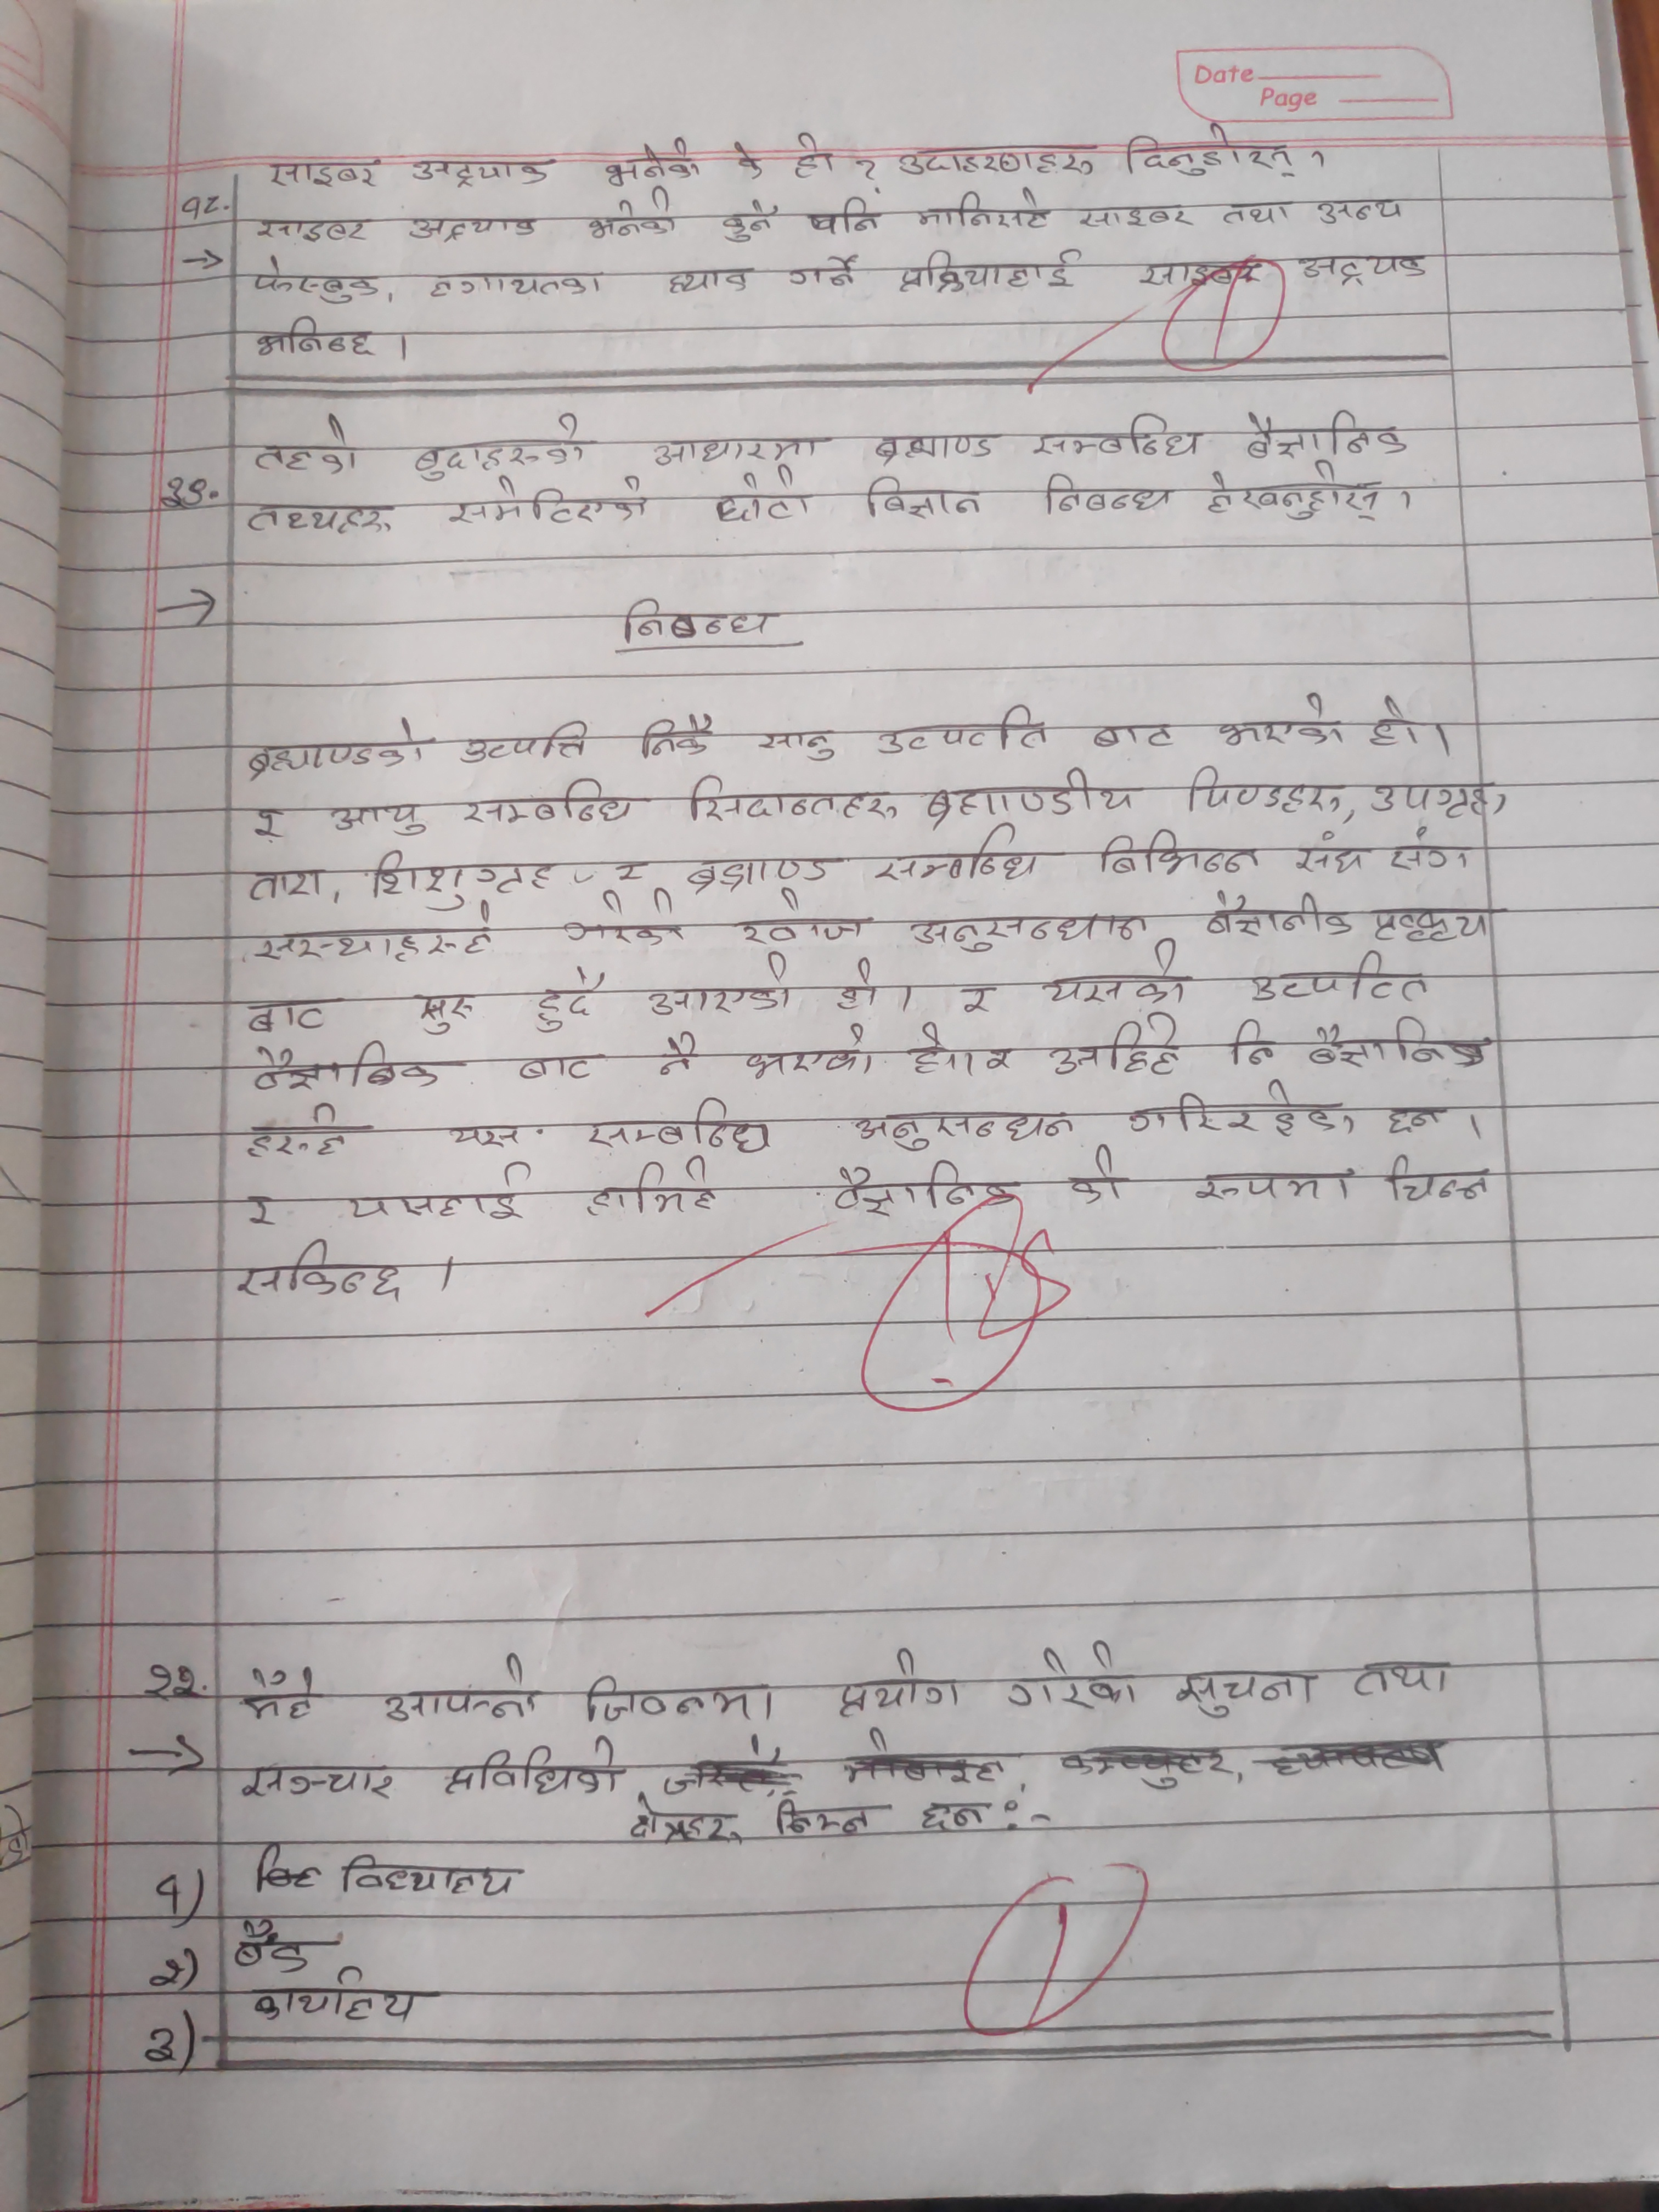text: (1121, 1080, 1356, 1143), (251, 907, 500, 965), (924, 766, 1143, 829), (413, 411, 592, 486), (380, 1649, 540, 1730), (687, 768, 901, 827), (368, 845, 558, 907), (342, 1165, 537, 1226), (235, 1238, 415, 1305), (579, 1670, 779, 1730), (1305, 1010, 1488, 1075), (1244, 949, 1436, 1008), (896, 913, 1161, 954), (251, 1040, 450, 1096), (439, 1738, 626, 1797), (244, 718, 436, 775), (1124, 120, 1304, 181), (242, 1972, 444, 2026), (873, 824, 1049, 885), (579, 1099, 777, 1153), (333, 1850, 523, 1905), (1204, 469, 1389, 524), (460, 775, 647, 829), (1237, 406, 1412, 463), (833, 1163, 1025, 1216), (835, 1642, 962, 1721), (1004, 1637, 1136, 1712), (847, 1109, 1082, 1151), (584, 1153, 721, 1224), (1028, 411, 1204, 467), (1035, 949, 1199, 1008), (647, 956, 793, 1022), (446, 482, 655, 528), (873, 704, 1054, 756), (1047, 1014, 1185, 1080), (1100, 826, 1267, 880), (897, 246, 1084, 293), (894, 138, 1101, 179), (1206, 885, 1359, 941), (1216, 688, 1344, 752), (1169, 1667, 1321, 1721), (237, 1757, 399, 1808), (617, 596, 784, 644), (739, 1026, 877, 1085), (1185, 765, 1345, 815), (627, 1789, 746, 1851), (1190, 1165, 1359, 1209), (425, 263, 613, 301), (242, 496, 397, 542), (913, 183, 1053, 232), (251, 416, 362, 477), (251, 256, 380, 308), (734, 894, 871, 942), (1384, 1151, 1495, 1211), (647, 432, 835, 467), (1042, 470, 1176, 519), (864, 472, 986, 524), (458, 718, 592, 765), (709, 469, 817, 526), (247, 1104, 356, 1162), (558, 906, 687, 953), (1297, 246, 1429, 291), (681, 855, 847, 890), (227, 1918, 321, 1979), (767, 1797, 880, 1848), (1368, 779, 1499, 822), (1345, 1651, 1455, 1702), (251, 317, 378, 361), (866, 430, 1004, 469), (1370, 906, 1495, 948), (234, 1667, 324, 1724), (601, 138, 701, 190), (582, 192, 681, 244), (1134, 254, 1263, 294), (532, 963, 603, 1035), (261, 152, 387, 192), (403, 211, 547, 244), (406, 157, 561, 186), (1291, 824, 1371, 880), (254, 211, 378, 246), (1385, 824, 1473, 873), (326, 799, 429, 840), (631, 714, 718, 761), (1091, 712, 1180, 758), (244, 993, 328, 1040), (1065, 1146, 1127, 1209), (138, 1656, 207, 1710), (1368, 691, 1424, 756), (1312, 192, 1405, 230), (244, 862, 328, 904), (805, 197, 882, 242), (410, 989, 477, 1040), (1080, 202, 1194, 232), (784, 253, 864, 294), (756, 721, 836, 763), (833, 953, 884, 1019), (1225, 1015, 1284, 1071), (660, 263, 755, 298), (915, 1797, 995, 1838), (908, 1019, 958, 1080), (716, 200, 781, 247), (1380, 1099, 1453, 1139), (786, 132, 840, 185), (519, 1050, 594, 1087), (443, 1120, 525, 1151), (157, 470, 220, 510), (1222, 199, 1302, 228), (652, 1031, 704, 1076), (728, 139, 763, 192), (242, 1193, 279, 1235), (610, 852, 647, 890), (247, 803, 284, 840), (985, 1042, 1018, 1080), (960, 981, 992, 1019)
